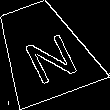N_NW: (10, 20, 77, 82)
